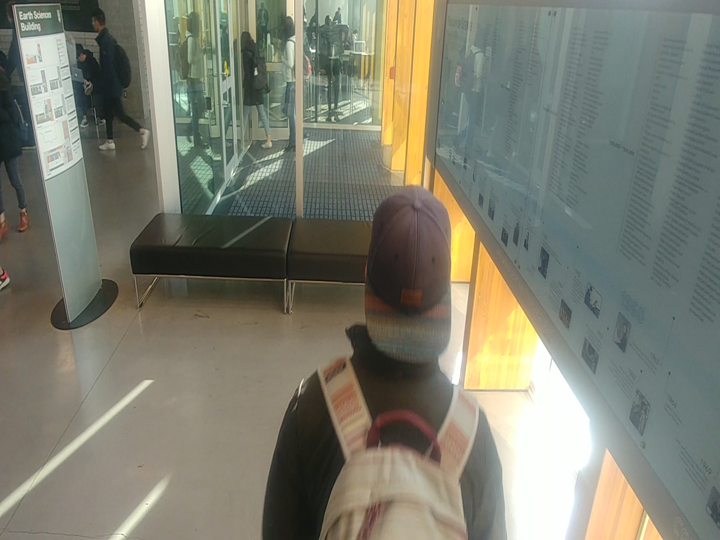face: (356, 176, 458, 374), (84, 5, 113, 37), (180, 7, 204, 39), (236, 27, 260, 55), (73, 37, 92, 68), (276, 14, 298, 39), (319, 7, 337, 30)
human: (256, 182, 517, 540), (86, 5, 154, 155), (171, 8, 212, 157), (236, 24, 274, 152), (312, 5, 349, 127), (72, 38, 108, 136), (278, 10, 297, 155)
